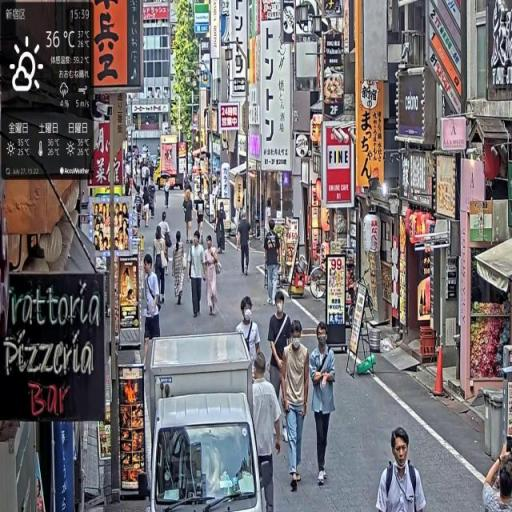person: (280, 319, 312, 492), (308, 320, 338, 494), (250, 354, 283, 512), (377, 425, 428, 512), (267, 289, 294, 440), (237, 295, 263, 372), (143, 255, 162, 360), (264, 218, 283, 307), (189, 229, 207, 321), (153, 224, 171, 308), (204, 234, 222, 318), (173, 232, 189, 308), (237, 211, 253, 278), (216, 203, 228, 257), (185, 190, 196, 247)
